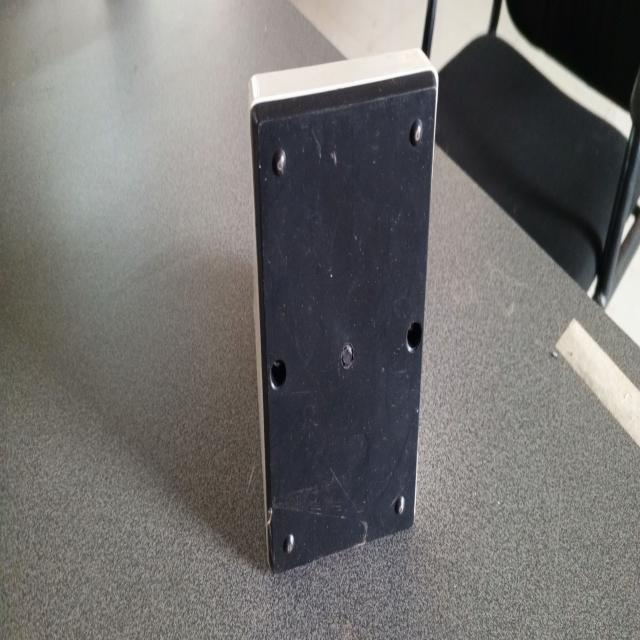Ammeter Analog: (236, 67, 437, 568)
